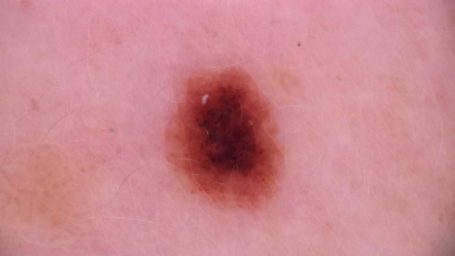nevus: (170, 70, 279, 204)
